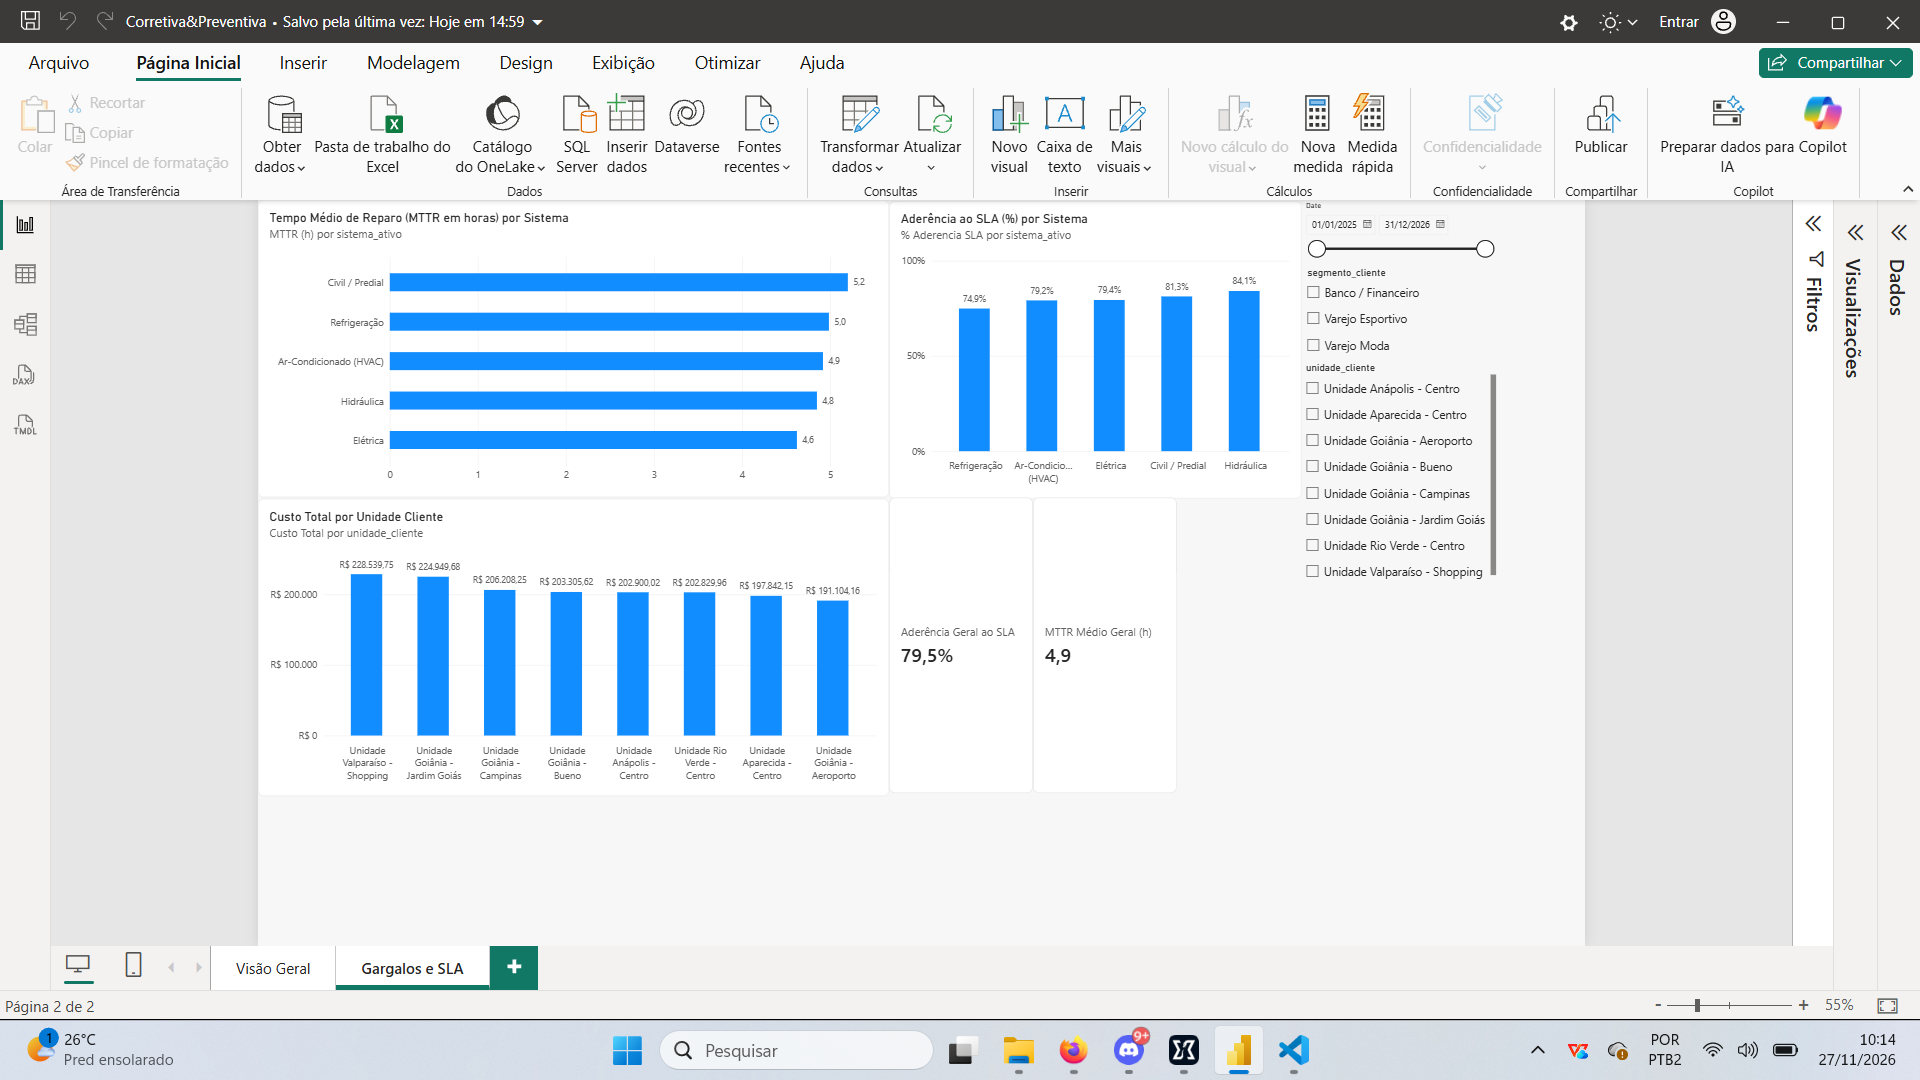

What the dashboard file says about the page in this screenshot:
{"tool":"powerbi","page":{"name":"Gargalos e SLA","canvas":[1920,1080],"ordinal":1},"visuals":[{"type":"clusteredBarChart","title":"Tempo Médio de Reparo (MTTR em horas) por Sistema","fields":{"Category":["fOrdensServico.sistema_ativo"],"Y":["_Medidas.MTTR (h)"]},"box":[0,0,913.3,430],"z":0},{"type":"clusteredColumnChart","title":"Custo Total por Unidade Cliente","fields":{"Category":["fOrdensServico.unidade_cliente"],"Y":["_Medidas.Custo Total"]},"box":[0,431.7,913.3,430],"z":1000},{"type":"clusteredColumnChart","title":"Aderência ao SLA (%) por Sistema","fields":{"Category":["fOrdensServico.sistema_ativo"],"Y":["_Medidas.% Aderencia SLA"]},"box":[913.3,1.7,596.7,430],"z":2000},{"type":"slicer","fields":{"Values":["fOrdensServico.segmento_cliente"]},"box":[1511.7,96.7,281.7,150],"z":3000},{"type":"slicer","fields":{"Values":["fOrdensServico.unidade_cliente"]},"box":[1510,233.3,283.3,321.7],"z":4000},{"type":"slicer","fields":{"Values":["dCalendario.Date"]},"box":[1510,1.7,283.3,113.3],"z":5000},{"type":"cardVisual","fields":{"Data":["_Medidas.% Aderencia SLA"]},"box":[913.3,430,208.3,428.3],"z":6000},{"type":"cardVisual","fields":{"Data":["_Medidas.MTTR (h)"]},"box":[1121.7,430,208.3,428.3],"z":6001}]}

Visuals, with their boxes on the page's 1920x1080 design canvas (x1, y1, x2, y2). These are canvas units, not pixel positions in the 1920x1080 screenshot, which may show the page scaled, cropped or inside an application window:
"Tempo Médio de Reparo (MTTR em horas) por Sistema" clusteredBarChart: 0/0/913/430
"Custo Total por Unidade Cliente" clusteredColumnChart: 0/432/913/862
"Aderência ao SLA (%) por Sistema" clusteredColumnChart: 913/2/1510/432
slicer - fOrdensServico.segmento_cliente: 1512/97/1793/247
slicer - fOrdensServico.unidade_cliente: 1510/233/1793/555
slicer - dCalendario.Date: 1510/2/1793/115
cardVisual - _Medidas.% Aderencia SLA: 913/430/1122/858
cardVisual - _Medidas.MTTR (h): 1122/430/1330/858
